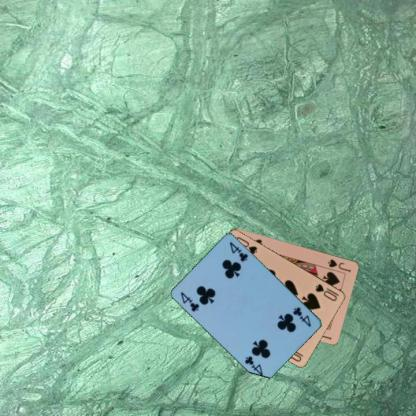10s: (313, 282, 340, 302)
4c: (290, 305, 312, 328), (178, 290, 200, 313)
Js: (325, 256, 352, 274)
